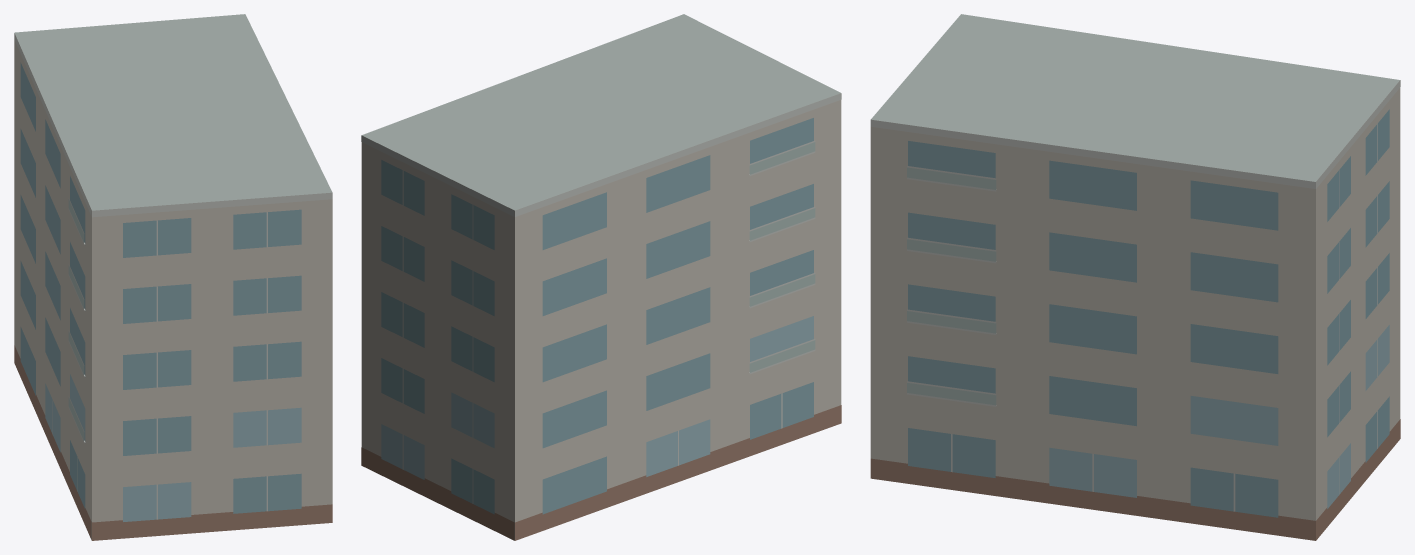
The model's file is survey-upis-32709041.glb.
3 renders of one model, left to right at view 1: azimuth 30°, elevation 25°; view 2: azimuth 150°, elevation 25°; view 3: azimuth 270°, elevation 25°, orthographic. The views are drawn at different scales.
Parts seen in each view (by area): view 1: survey-upis-32709041.tmp; view 2: survey-upis-32709041.tmp; view 3: survey-upis-32709041.tmp.
Boxes of the visible parts, bbox=[...] form: survey-upis-32709041.tmp: bbox=[14, 14, 332, 540]; survey-upis-32709041.tmp: bbox=[361, 14, 841, 540]; survey-upis-32709041.tmp: bbox=[870, 14, 1400, 540].
Size of the model in its own units: 12.36 by 12.3 by 16.46.
